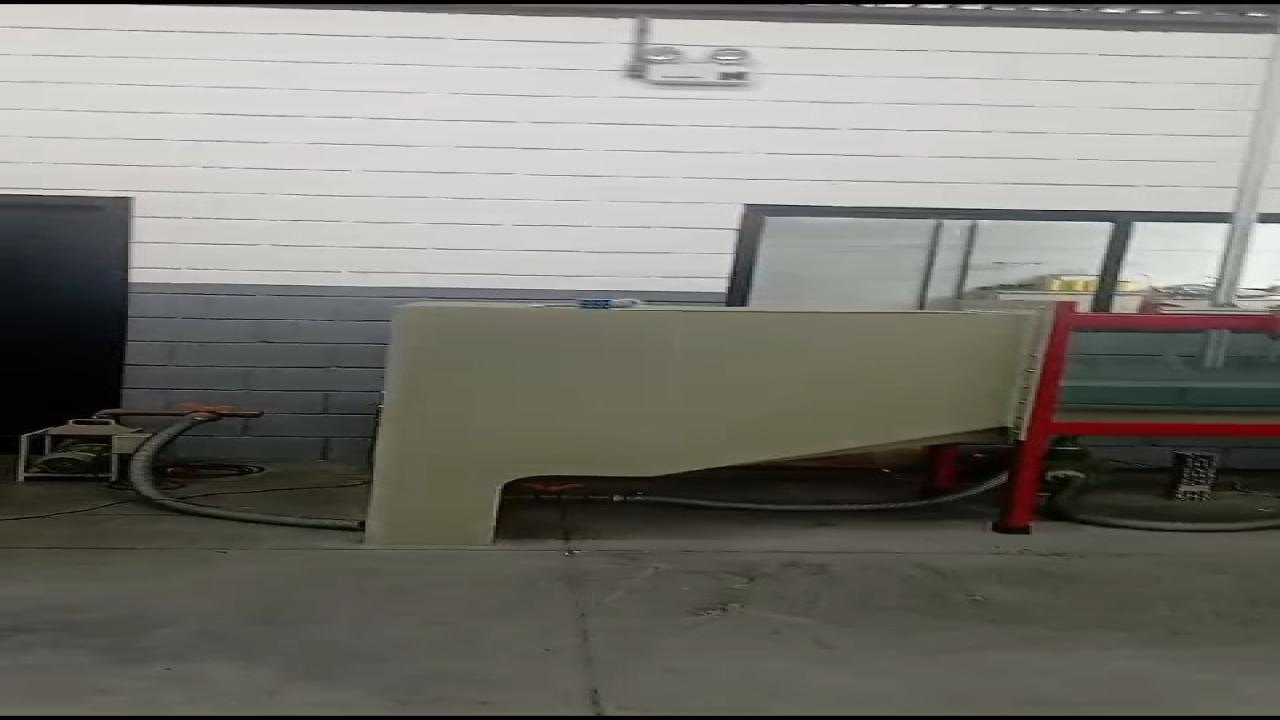Cube: (576, 299, 611, 309)
